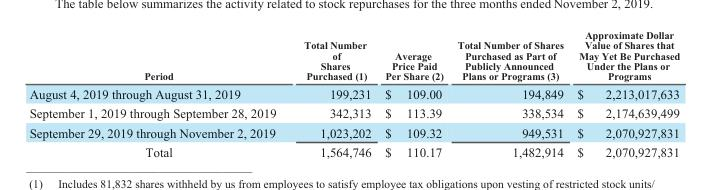table: (28, 28, 679, 158)
table column: (28, 28, 289, 158), (449, 28, 569, 158), (569, 28, 679, 158), (289, 28, 377, 158), (377, 28, 449, 158)
table column header: (28, 28, 679, 84)
table row: (28, 28, 679, 84), (28, 122, 679, 142), (28, 84, 679, 103), (28, 103, 679, 122), (28, 142, 679, 158)
